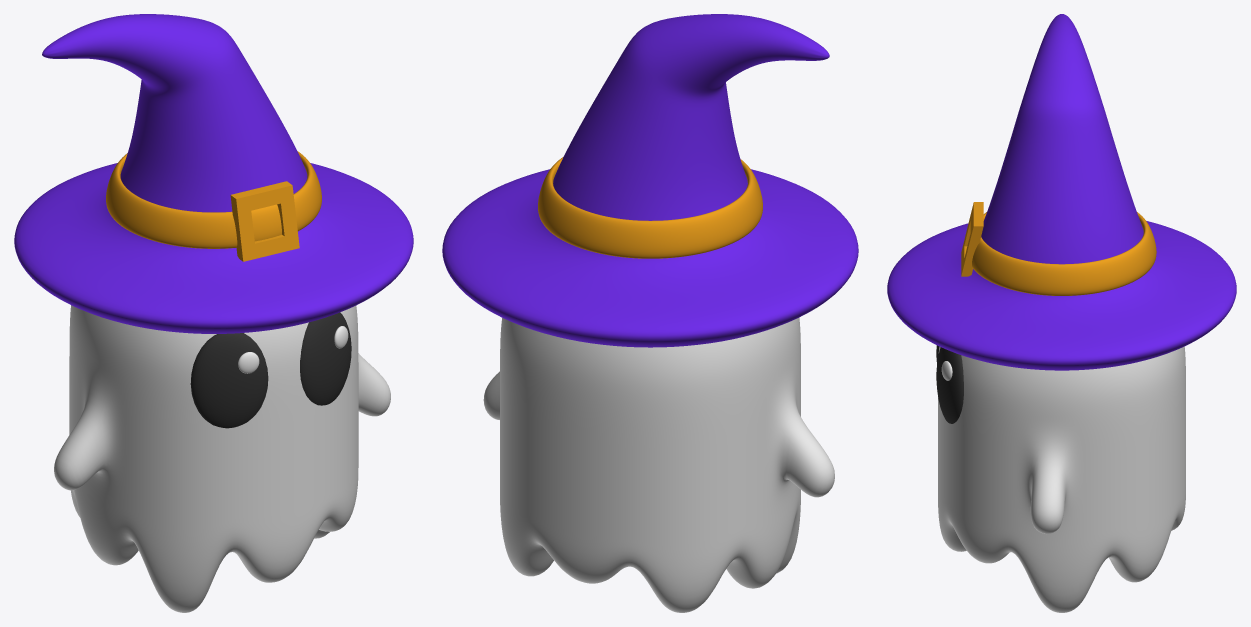
File: ghost.fbx
The picture shows the model from 3 angles, left to right: view 1: azimuth 30°, elevation 25°; view 2: azimuth 150°, elevation 25°; view 3: azimuth 270°, elevation 25°; orthographic projection. The views are drawn at different scales.
Visible parts, largest first — view 1: hat, ghost, eyes, Cylinder.001, Plane; view 2: hat, ghost, Cylinder.001; view 3: hat, ghost, Cylinder.001, eyes, Plane.
Boxes of the visible parts, <box> form: hat: <box>14,14,413,333</box>; ghost: <box>54,305,390,612</box>; eyes: <box>190,312,351,428</box>; Cylinder.001: <box>106,151,321,248</box>; Plane: <box>230,181,299,261</box>; hat: <box>442,14,858,347</box>; ghost: <box>483,318,834,612</box>; Cylinder.001: <box>538,157,762,258</box>; hat: <box>887,14,1236,370</box>; ghost: <box>938,346,1185,612</box>; Cylinder.001: <box>972,212,1156,295</box>; eyes: <box>936,345,963,423</box>; Plane: <box>961,202,983,276</box>.
Size of the model in its own units: 235 by 369 by 235.
